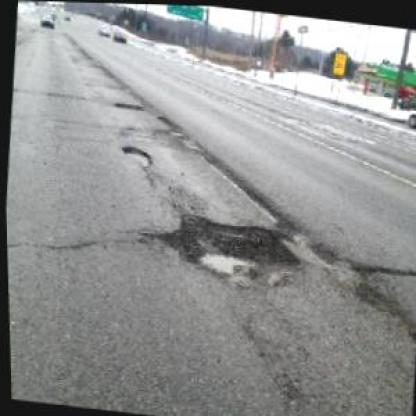pothole: (157, 206, 305, 283), (115, 140, 153, 168), (111, 98, 143, 110)
